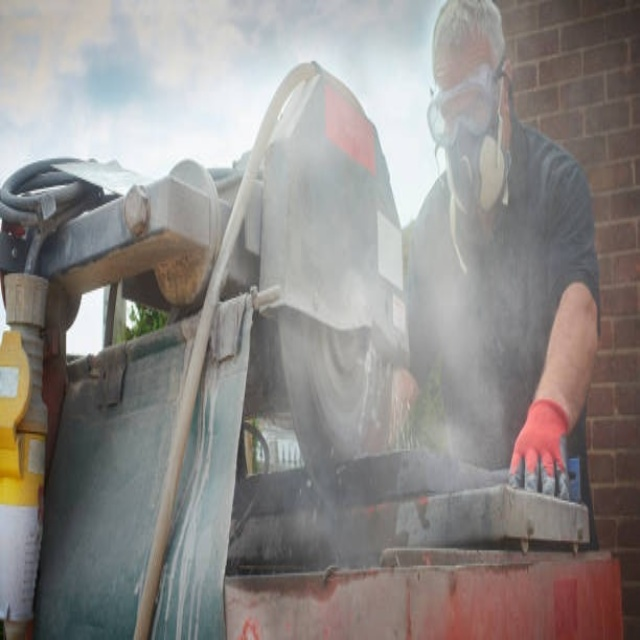Gafas: (427, 62, 505, 144)
Guantes: (510, 398, 571, 488)
Mascara: (433, 72, 508, 224)
